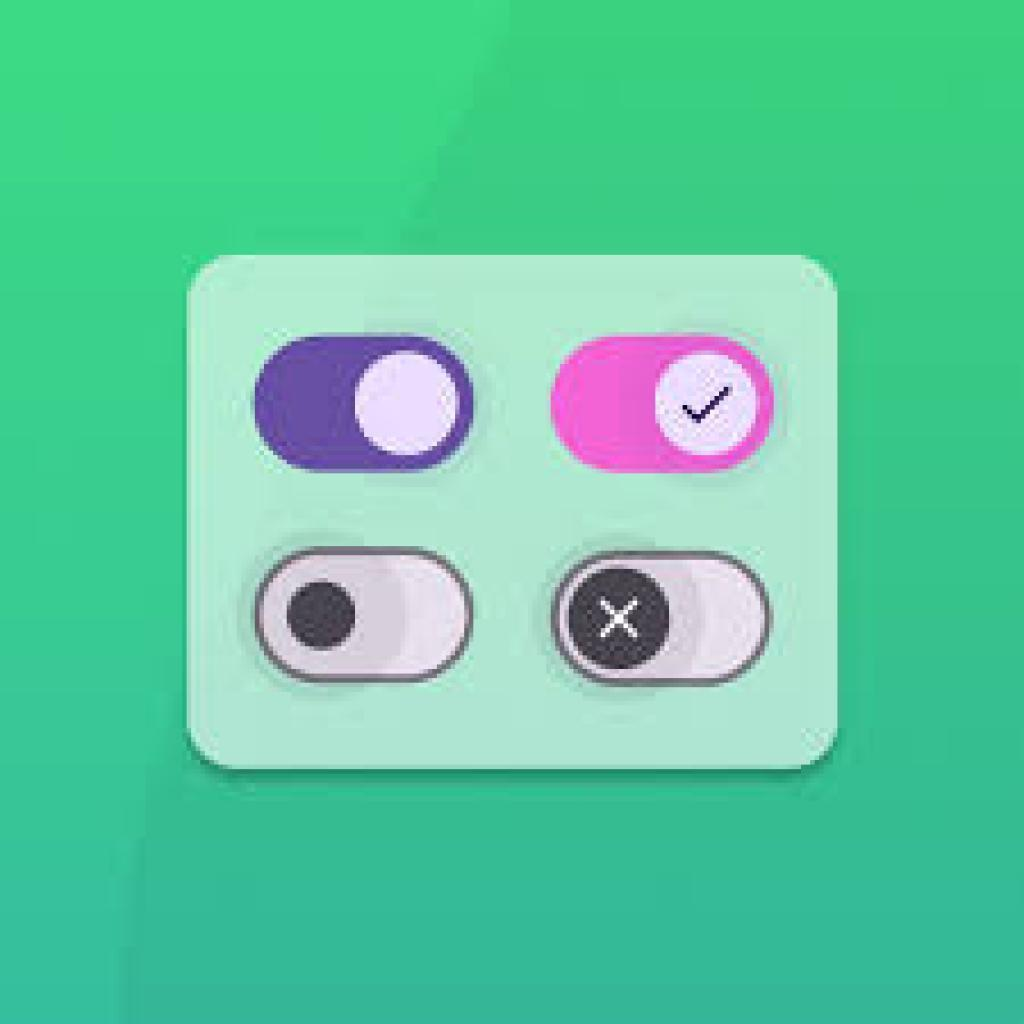switch: (251, 335, 478, 471), (552, 337, 774, 473), (551, 549, 770, 684), (253, 551, 474, 682)
